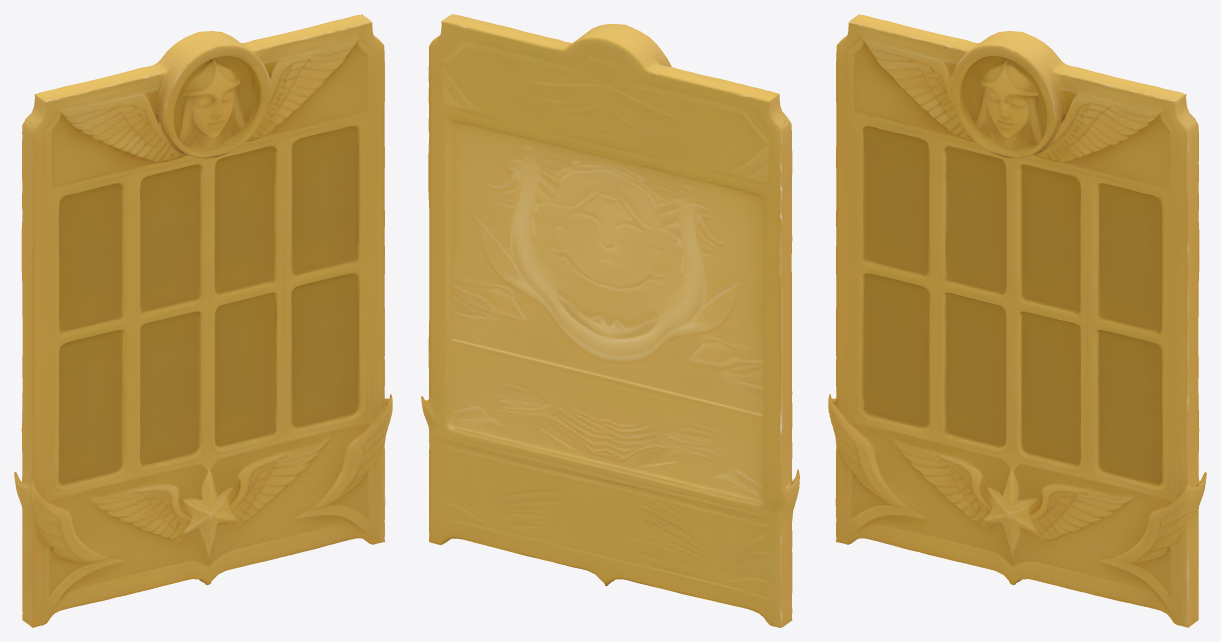
Rendered from base_basic_shaded.fbx.
The picture shows the model from 3 angles, left to right: view 1: azimuth 30°, elevation 25°; view 2: azimuth 150°, elevation 25°; view 3: azimuth 330°, elevation 25°; orthographic projection.
Visible parts, largest first — view 1: model; view 2: model; view 3: model.
Boxes of the visible parts, <box> form: model: <box>14,14,392,627</box>; model: <box>421,14,799,627</box>; model: <box>828,14,1206,627</box>.
Bounding box in the file's own units: 131 × 190 × 15.65.
